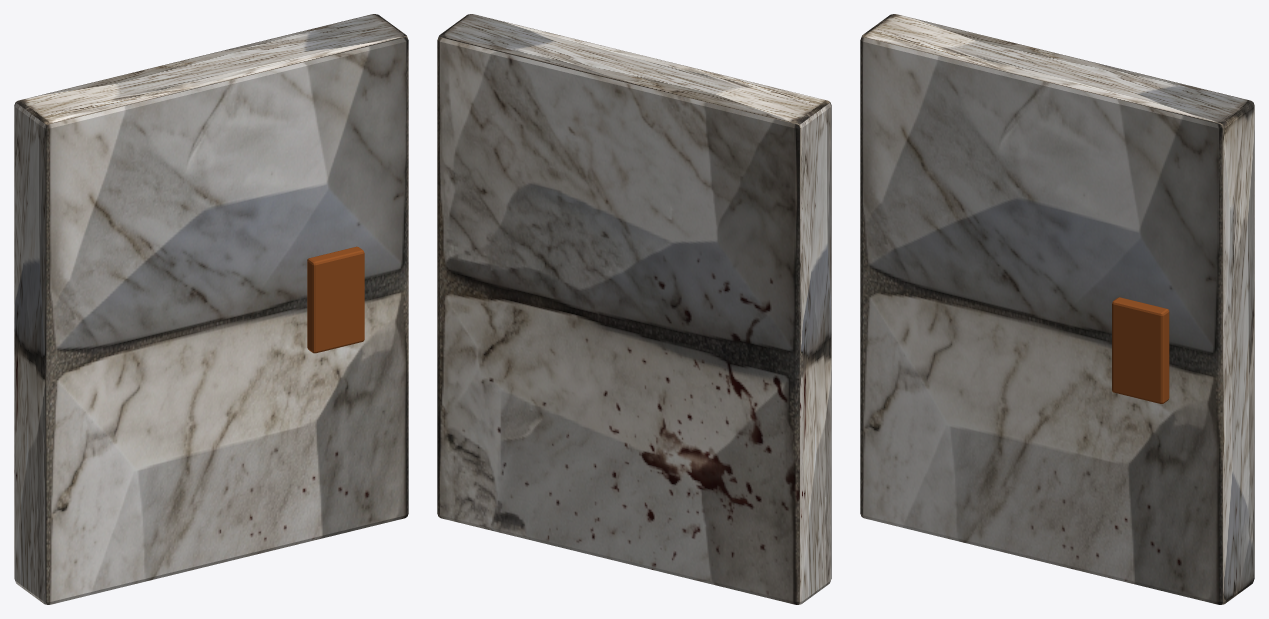
File: door_stone_sliding_LOD1.glb
The picture shows the model from 3 angles, left to right: view 1: azimuth 30°, elevation 25°; view 2: azimuth 150°, elevation 25°; view 3: azimuth 330°, elevation 25°; orthographic projection.
Parts seen in each view (by area): view 1: LOD1_StoneDoor, LOD1_Pull; view 2: LOD1_StoneDoor; view 3: LOD1_StoneDoor, LOD1_Pull.
Boxes of the visible parts, left/top/right/bottom form: LOD1_StoneDoor: left=14, top=14, right=408, bottom=604; LOD1_Pull: left=307, top=246, right=364, bottom=353; LOD1_StoneDoor: left=437, top=14, right=831, bottom=604; LOD1_StoneDoor: left=860, top=14, right=1254, bottom=604; LOD1_Pull: left=1112, top=297, right=1169, bottom=403.
Bounding box in the file's own units: 2.25 × 2.85 × 0.44.
2 materials, 1 textured.
